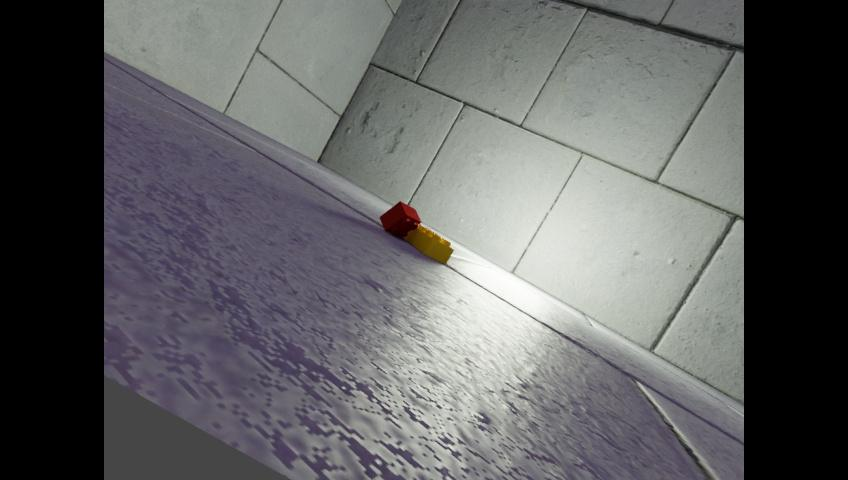2x2_red: (379, 200, 420, 237)
4x2_yellow: (404, 224, 453, 264)
